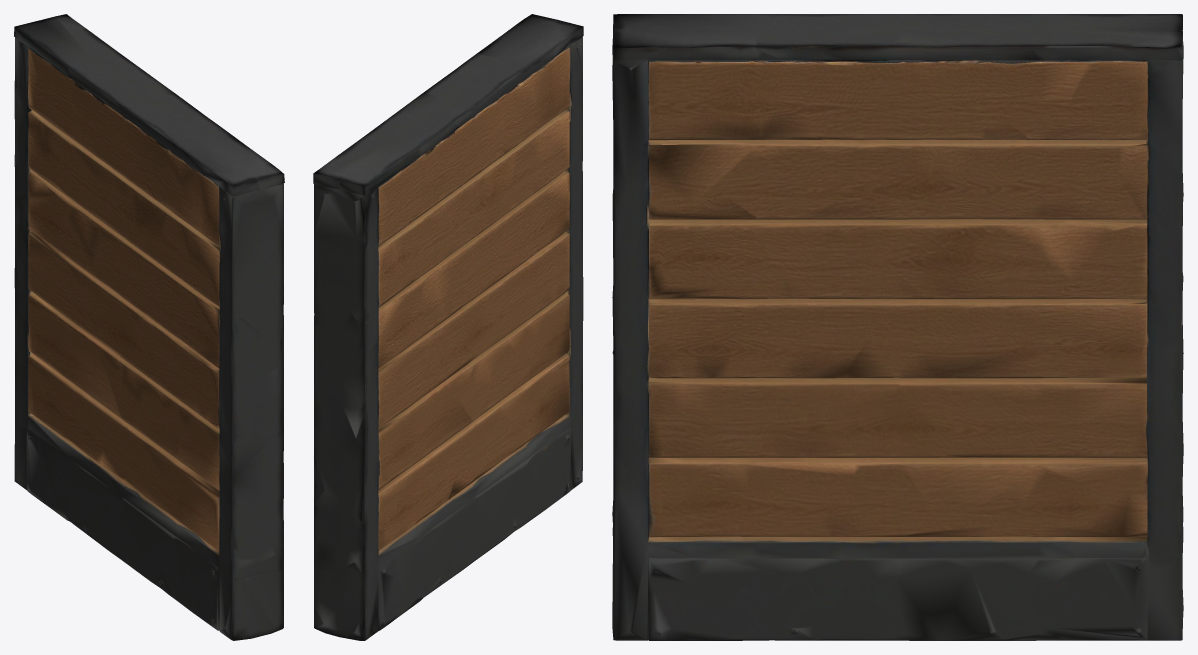
Rendered from pnl_slab.glb.
3 renders of one model, left to right at view 1: azimuth 30°, elevation 25°; view 2: azimuth 150°, elevation 25°; view 3: azimuth 270°, elevation 25°, orthographic. The views are drawn at different scales.
Visible parts, largest first — view 1: tripo_node_95089fe0-1304-4773-88dd-1d3d346eb88b; view 2: tripo_node_95089fe0-1304-4773-88dd-1d3d346eb88b; view 3: tripo_node_95089fe0-1304-4773-88dd-1d3d346eb88b.
Boxes of the visible parts, x1,y1,x2,y2 form: tripo_node_95089fe0-1304-4773-88dd-1d3d346eb88b: (14, 14, 284, 640); tripo_node_95089fe0-1304-4773-88dd-1d3d346eb88b: (313, 14, 583, 640); tripo_node_95089fe0-1304-4773-88dd-1d3d346eb88b: (612, 14, 1183, 640).
Size of the model in its own units: 0.2414 by 1.8 by 1.56.
1 material, 1 textured.
